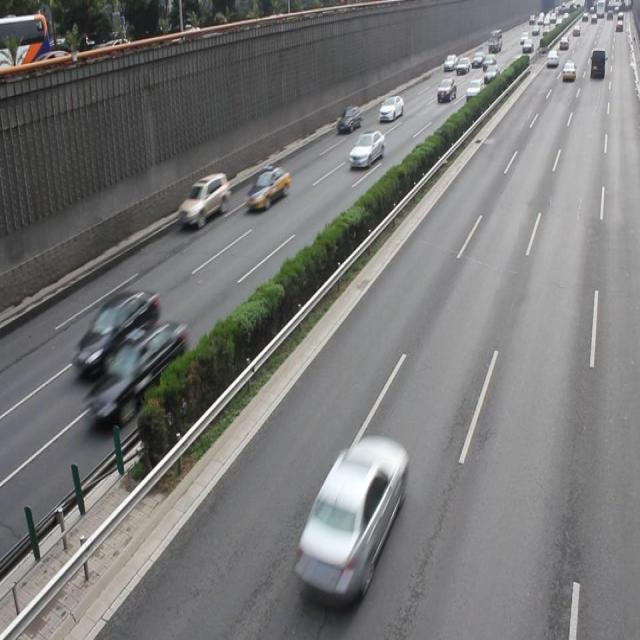car: (297, 435, 406, 596), (86, 319, 188, 425), (73, 288, 160, 378), (177, 172, 229, 227), (245, 166, 290, 210), (348, 130, 384, 168)
